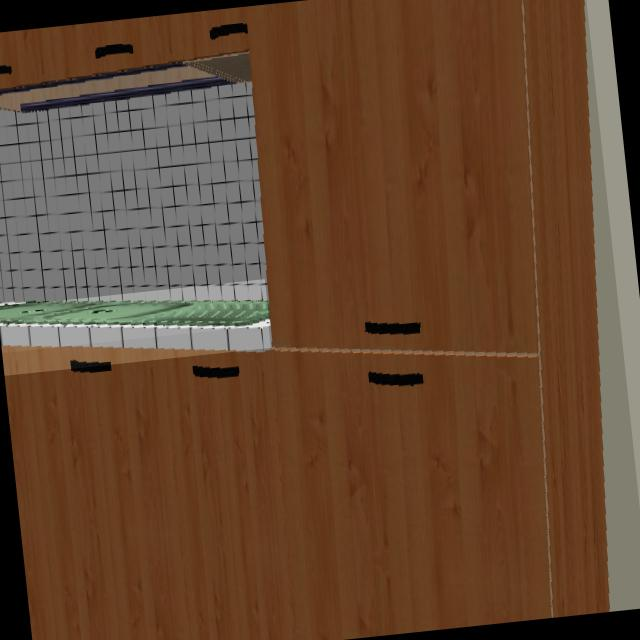countertop: (0, 307, 268, 349)
sink: (0, 300, 268, 328)
